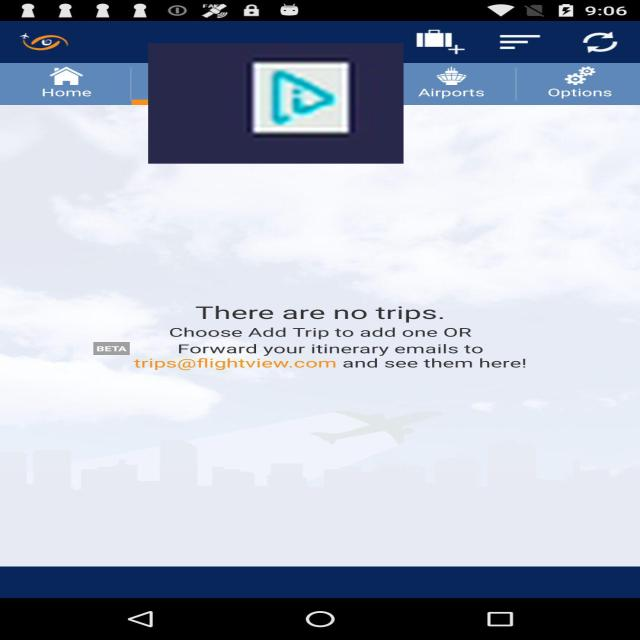sneaking: (148, 43, 404, 164)
